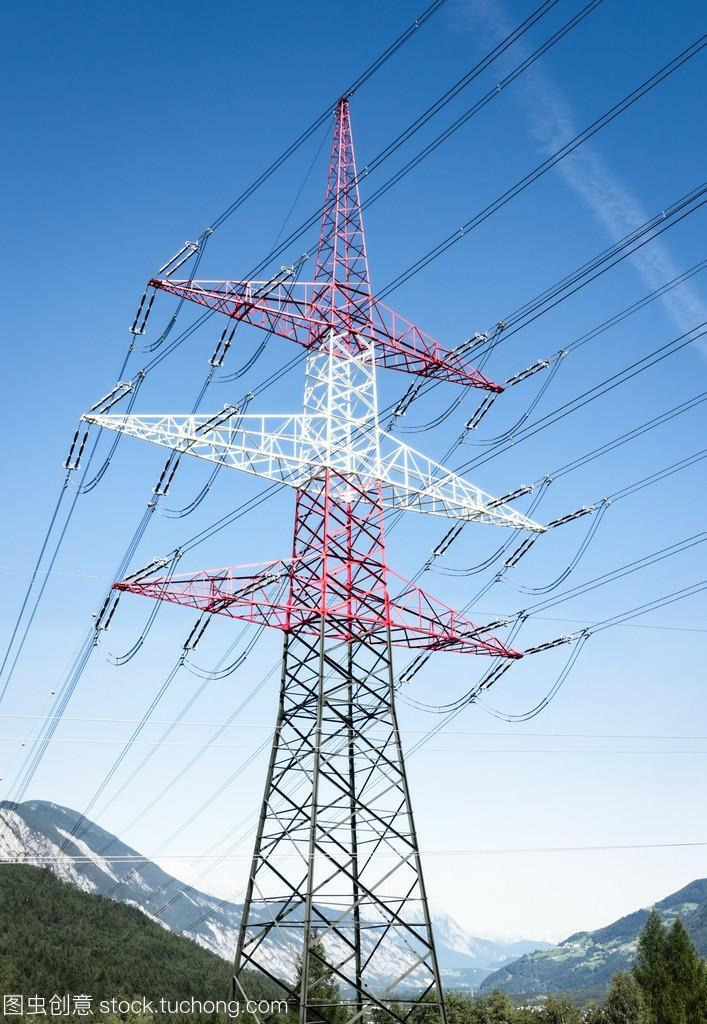power_tower: (127, 94, 559, 1020)
